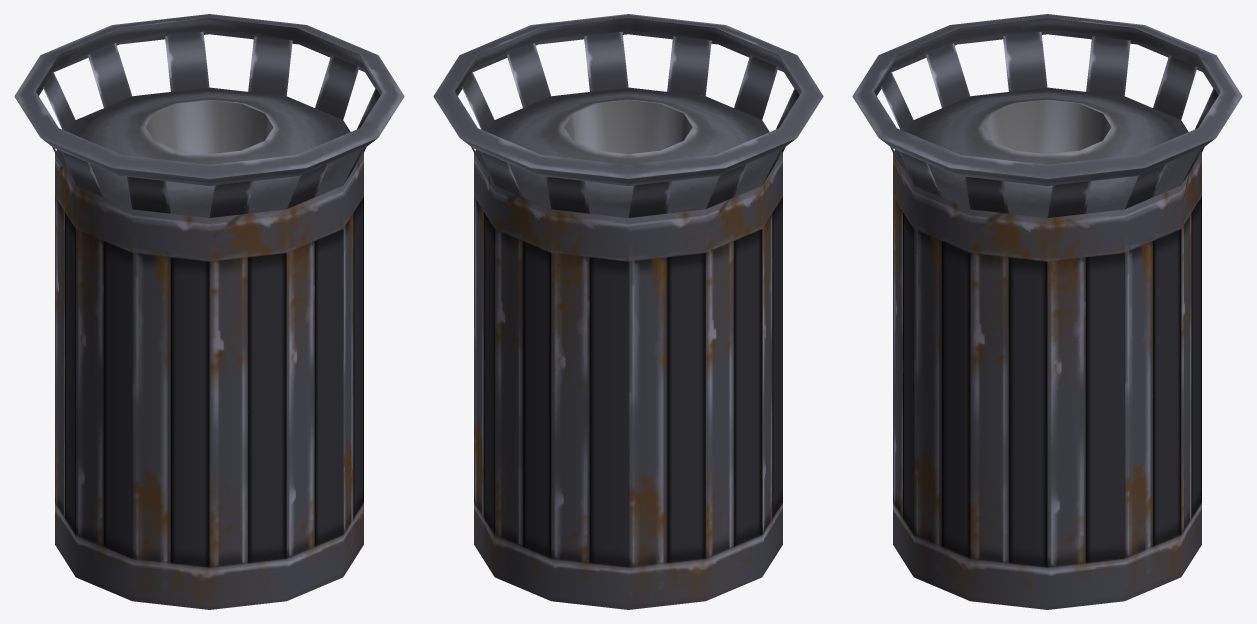
The model's file is FIG0110010.FBX.
The picture shows the model from 3 angles, left to right: view 1: azimuth 30°, elevation 25°; view 2: azimuth 150°, elevation 25°; view 3: azimuth 270°, elevation 25°; orthographic projection.
Visible parts, largest first — view 1: smFIG0110010; view 2: smFIG0110010; view 3: smFIG0110010.
Part boxes in pixels (left/top/right/bottom): smFIG0110010: left=14, top=14, right=404, bottom=609; smFIG0110010: left=433, top=14, right=823, bottom=609; smFIG0110010: left=852, top=14, right=1242, bottom=609.
Size of the model in its own units: 0.6319 by 0.8095 by 0.6319.
Materials: 1 (1 with a texture image).
